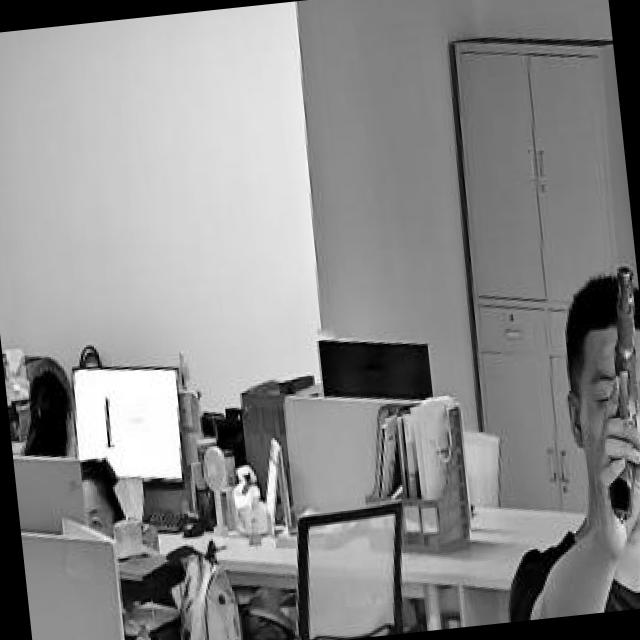Guns: (554, 246, 640, 529)
